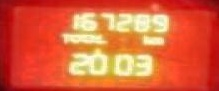0: (110, 51, 130, 75), (87, 51, 105, 75)
1: (70, 11, 77, 30)
2: (67, 51, 87, 75), (113, 11, 132, 31)
3: (132, 52, 152, 76)
6: (79, 11, 95, 31)
7: (97, 10, 113, 31)
8: (132, 12, 148, 31)
9: (150, 12, 169, 31)
X: (150, 35, 164, 45), (95, 32, 107, 43), (140, 33, 149, 46), (59, 32, 69, 43), (69, 32, 79, 43), (80, 32, 89, 42), (89, 32, 95, 43)
